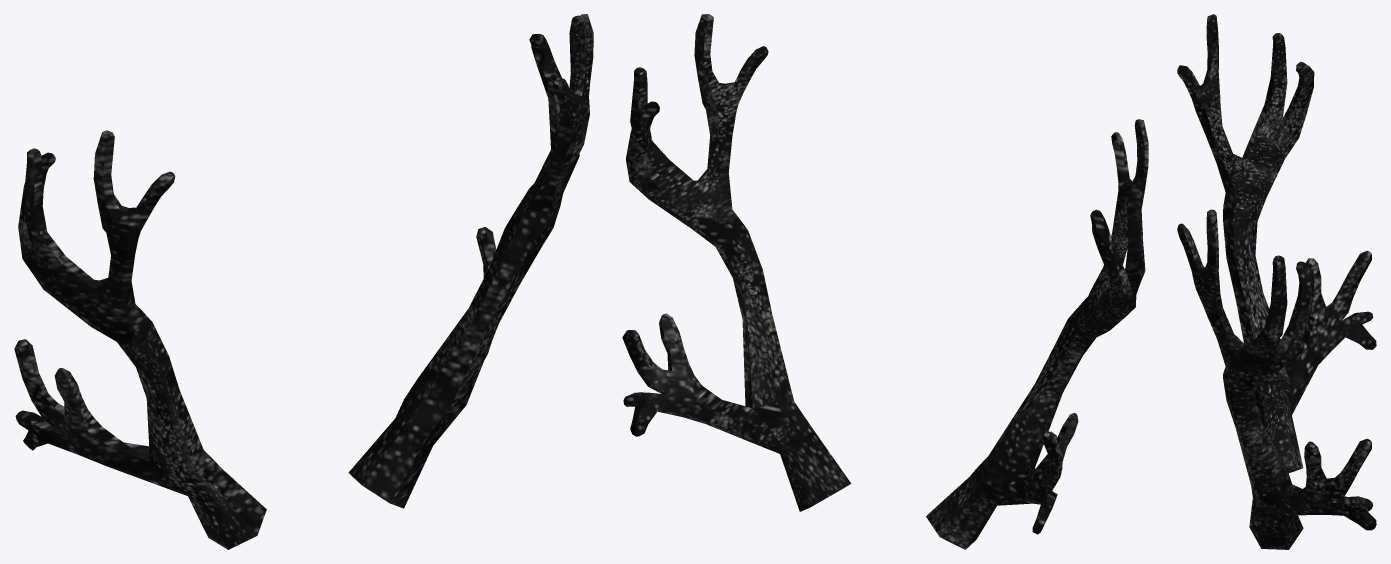
The model's file is Antlers.glb.
3 renders of one model, left to right at view 1: azimuth 30°, elevation 25°; view 2: azimuth 150°, elevation 25°; view 3: azimuth 270°, elevation 25°, orthographic. The views are drawn at different scales.
Parts seen in each view (by area): view 1: Antlers; view 2: Antlers; view 3: Antlers.
Part boxes in pixels (x1,y1,x2,y2): Antlers: (14, 14, 593, 549); Antlers: (622, 14, 1148, 549); Antlers: (1177, 14, 1376, 549).
Size of the model in its own units: 2.21 by 1.8 by 0.8113.
1 material, 1 textured.
